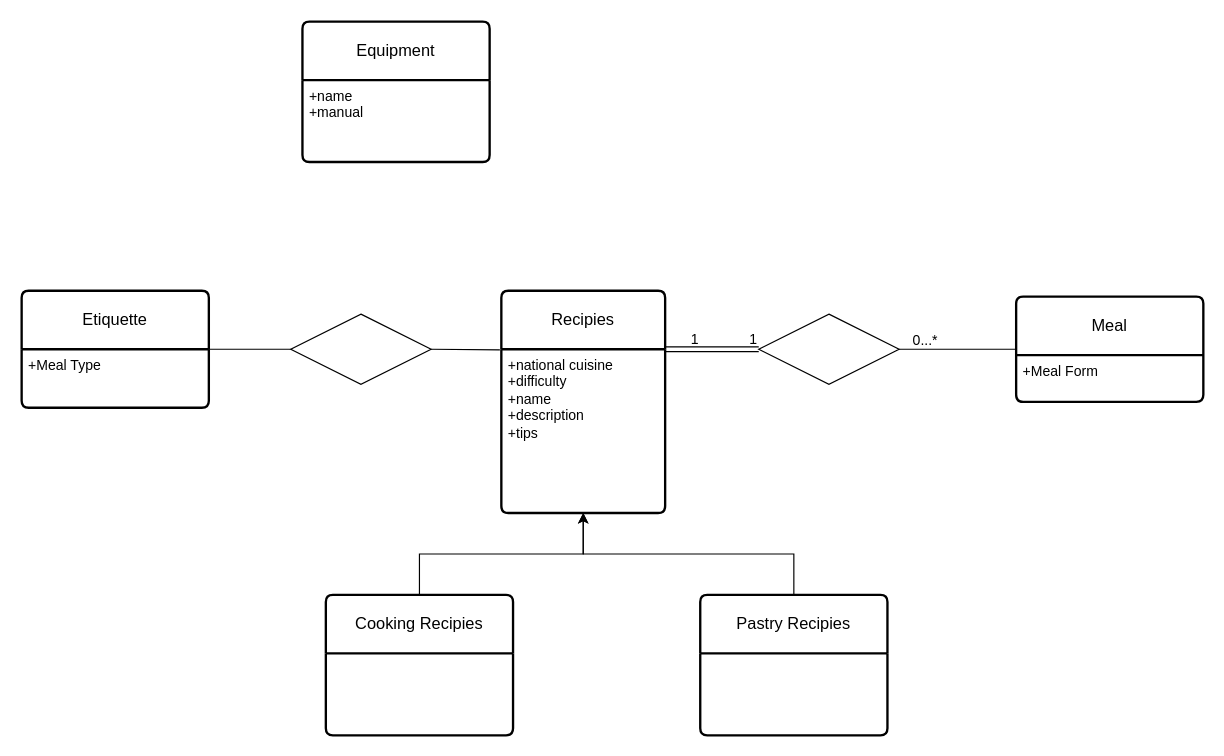
Image size: 1224x756. Some labels were removed from this diagram. Here are the shapes that lost their labels. From the top down, the centre of each, then its label:
point (360, 348): has
point (828, 348): is of type
